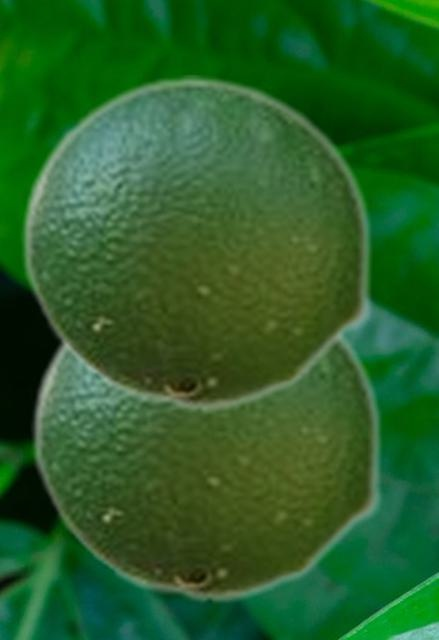dalandan: (20, 75, 373, 413), (30, 334, 383, 604)
